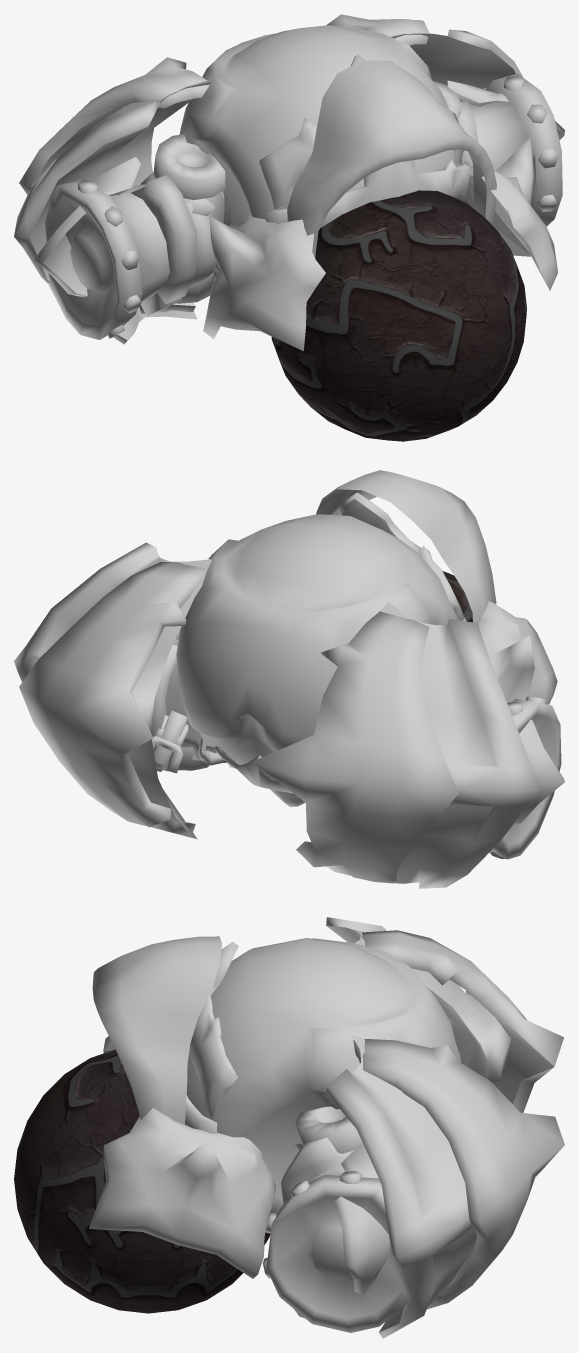
Rendered from Born (16).obj.
3 renders of one model, top to bottom at view 1: azimuth 30°, elevation 25°; view 2: azimuth 150°, elevation 25°; view 3: azimuth 270°, elevation 25°, orthographic. The views are drawn at different scales.
Visible parts, largest first — view 1: ironreaver01; view 2: ironreaver01; view 3: ironreaver01.
Boxes of the visible parts, x1=… form: ironreaver01: x1=14, y1=14, x2=564, y2=441; ironreaver01: x1=14, y1=470, x2=564, y2=888; ironreaver01: x1=14, y1=917, x2=564, y2=1338.
Size of the model in its own units: 1.55 by 0.9627 by 1.34.
